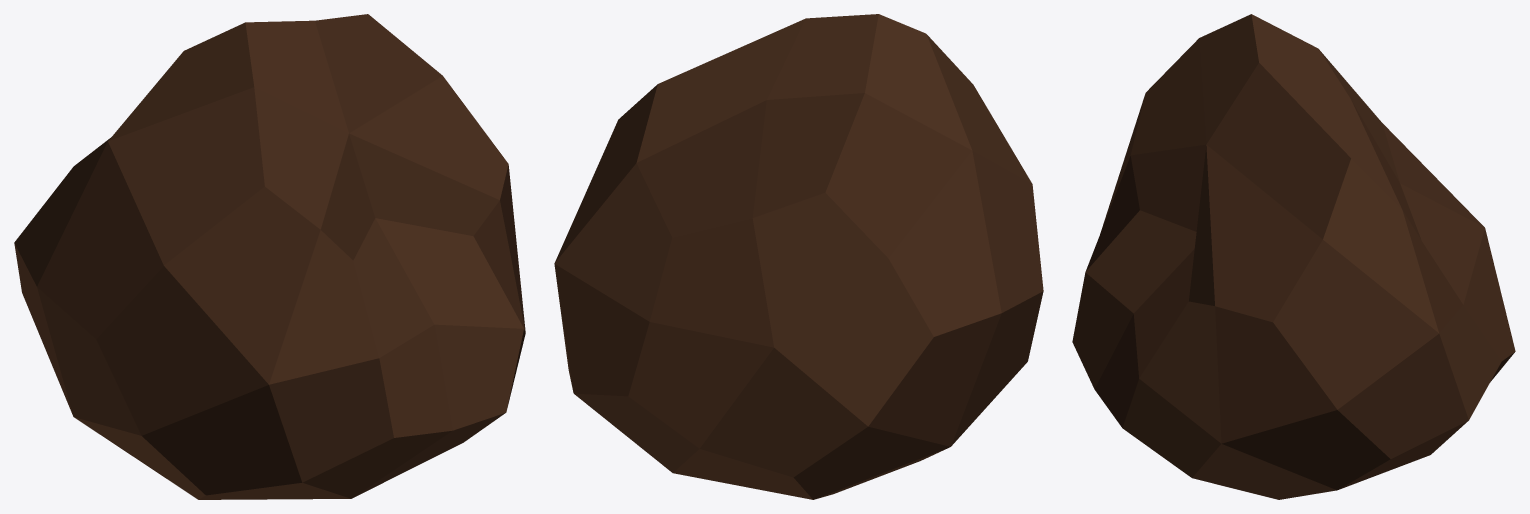
Rendered from Boulder3.glb.
The picture shows the model from 3 angles, left to right: view 1: azimuth 30°, elevation 25°; view 2: azimuth 150°, elevation 25°; view 3: azimuth 270°, elevation 25°; orthographic projection. The views are drawn at different scales.
Parts seen in each view (by area): view 1: Boulder3; view 2: Boulder3; view 3: Boulder3.
Boxes of the visible parts, x1=… form: Boulder3: x1=14, y1=14, x2=525, y2=499; Boulder3: x1=554, y1=14, x2=1043, y2=499; Boulder3: x1=1072, y1=14, x2=1515, y2=499.
Bounding box in the file's own units: 1.27 × 1.3 × 1.23.
